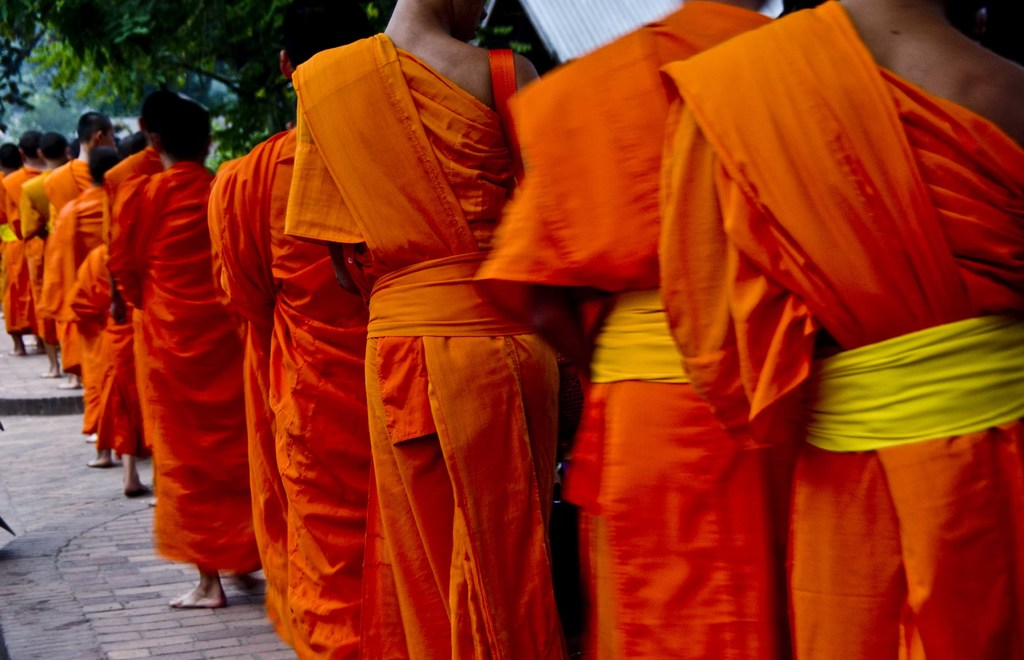Person: (0, 0, 1023, 660)
